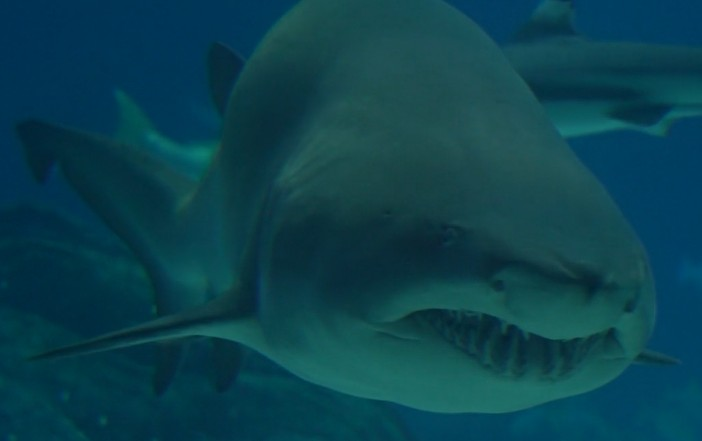shark: (9, 1, 645, 417)
